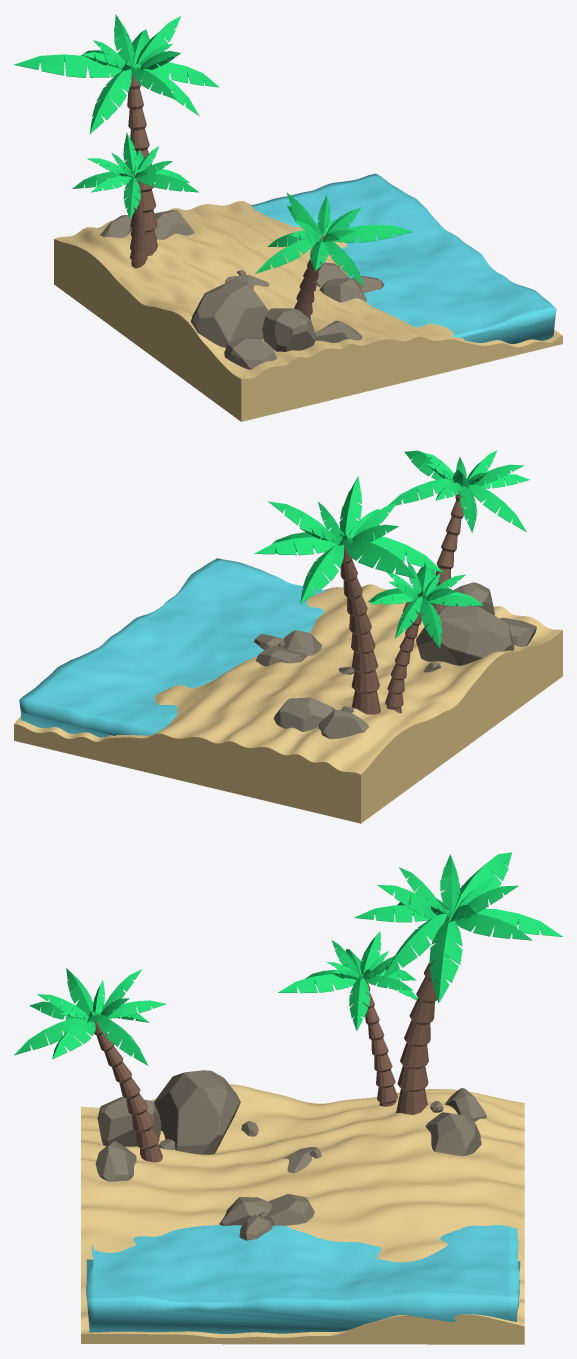
Rendered from asset.gltf.
3 renders of one model, top to bottom at view 1: azimuth 30°, elevation 25°; view 2: azimuth 150°, elevation 25°; view 3: azimuth 270°, elevation 25°, orthographic. The views are drawn at different scales.
Parts seen in each view (by area): view 1: Plane, Plane.001, Cube.002, Circle, Cube.001, Plane.006, Plane.007, Cube, Plane.034, Circle.001, Cube.012, Circle.002 (+12 smaller); view 2: Plane, Plane.001, Cube.002, Circle, Cube.012, Circle.001, Plane.006, Plane.005, Circle.002, Cube.013, Plane.004, Plane.007 (+12 smaller); view 3: Plane, Plane.001, Cube.002, Circle, Circle.002, Cube.012, Plane.003, Cube.001, Circle.001, Plane.009, Cube.006, Cube.009 (+15 smaller).
Boxes of the visible parts, left/top/right/bottom form: Plane: left=54, top=201, right=562, bottom=421; Plane.001: left=251, top=173, right=556, bottom=343; Cube.002: left=190, top=279, right=268, bottom=347; Circle: left=127, top=74, right=157, bottom=256; Cube.001: left=262, top=308, right=316, bottom=351; Plane.006: left=14, top=54, right=121, bottom=77; Plane.007: left=89, top=69, right=131, bottom=133; Cube: left=224, top=337, right=276, bottom=369; Plane.034: left=332, top=224, right=412, bottom=242; Circle.001: left=130, top=174, right=147, bottom=268; Cube.012: left=154, top=210, right=194, bottom=239; Circle.002: left=294, top=235, right=324, bottom=319; Plane: left=14, top=584, right=562, bottom=823; Plane.001: left=19, top=558, right=327, bottom=737; Cube.002: left=416, top=606, right=514, bottom=665; Circle: left=340, top=546, right=380, bottom=714; Cube.012: left=273, top=697, right=335, bottom=731; Circle.001: left=385, top=611, right=422, bottom=713; Plane.006: left=345, top=541, right=415, bottom=578; Plane.005: left=300, top=544, right=343, bottom=604; Circle.002: left=431, top=490, right=464, bottom=613; Cube.013: left=318, top=710, right=368, bottom=739; Plane.004: left=254, top=537, right=336, bottom=555; Plane.007: left=347, top=534, right=443, bottom=572; Plane: left=81, top=1084, right=524, bottom=1344; Plane.001: left=86, top=1225, right=520, bottom=1333; Cube.002: left=154, top=1070, right=240, bottom=1154; Circle: left=396, top=919, right=448, bottom=1114; Circle.002: left=94, top=1021, right=162, bottom=1162; Cube.012: left=425, top=1112, right=481, bottom=1155; Plane.003: left=429, top=913, right=462, bottom=1003; Cube.001: left=97, top=1097, right=161, bottom=1146; Circle.001: left=362, top=982, right=398, bottom=1106; Plane.009: left=382, top=910, right=449, bottom=978; Cube.006: left=95, top=1140, right=136, bottom=1181; Cube.009: left=266, top=1194, right=314, bottom=1225.
Size of the model in its own units: 8 by 5.66 by 8.71.
